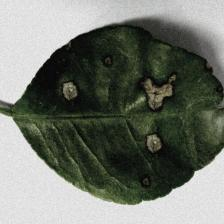canker: (53, 50, 182, 162)
